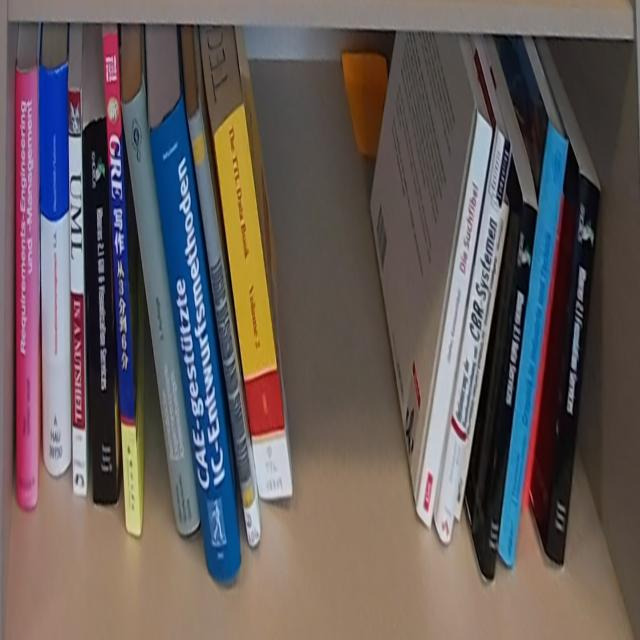Book Spine: (151, 95, 241, 588), (121, 76, 202, 538), (434, 130, 514, 549), (188, 103, 262, 548), (498, 123, 571, 573), (212, 101, 293, 503), (416, 111, 493, 529), (478, 202, 541, 582), (545, 173, 601, 572), (102, 38, 140, 535), (452, 198, 508, 525), (38, 62, 72, 482), (81, 115, 116, 509), (16, 63, 39, 513), (69, 90, 86, 502)
